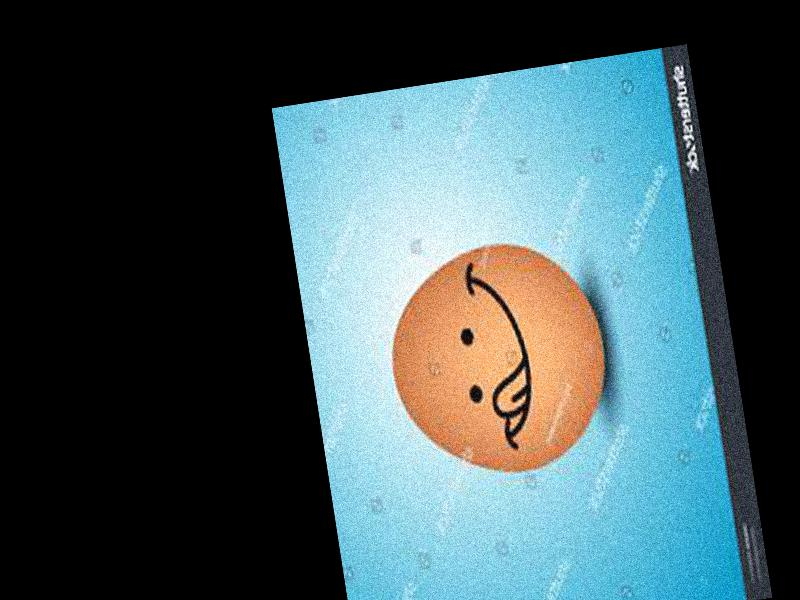Eggs: (376, 229, 620, 489)
